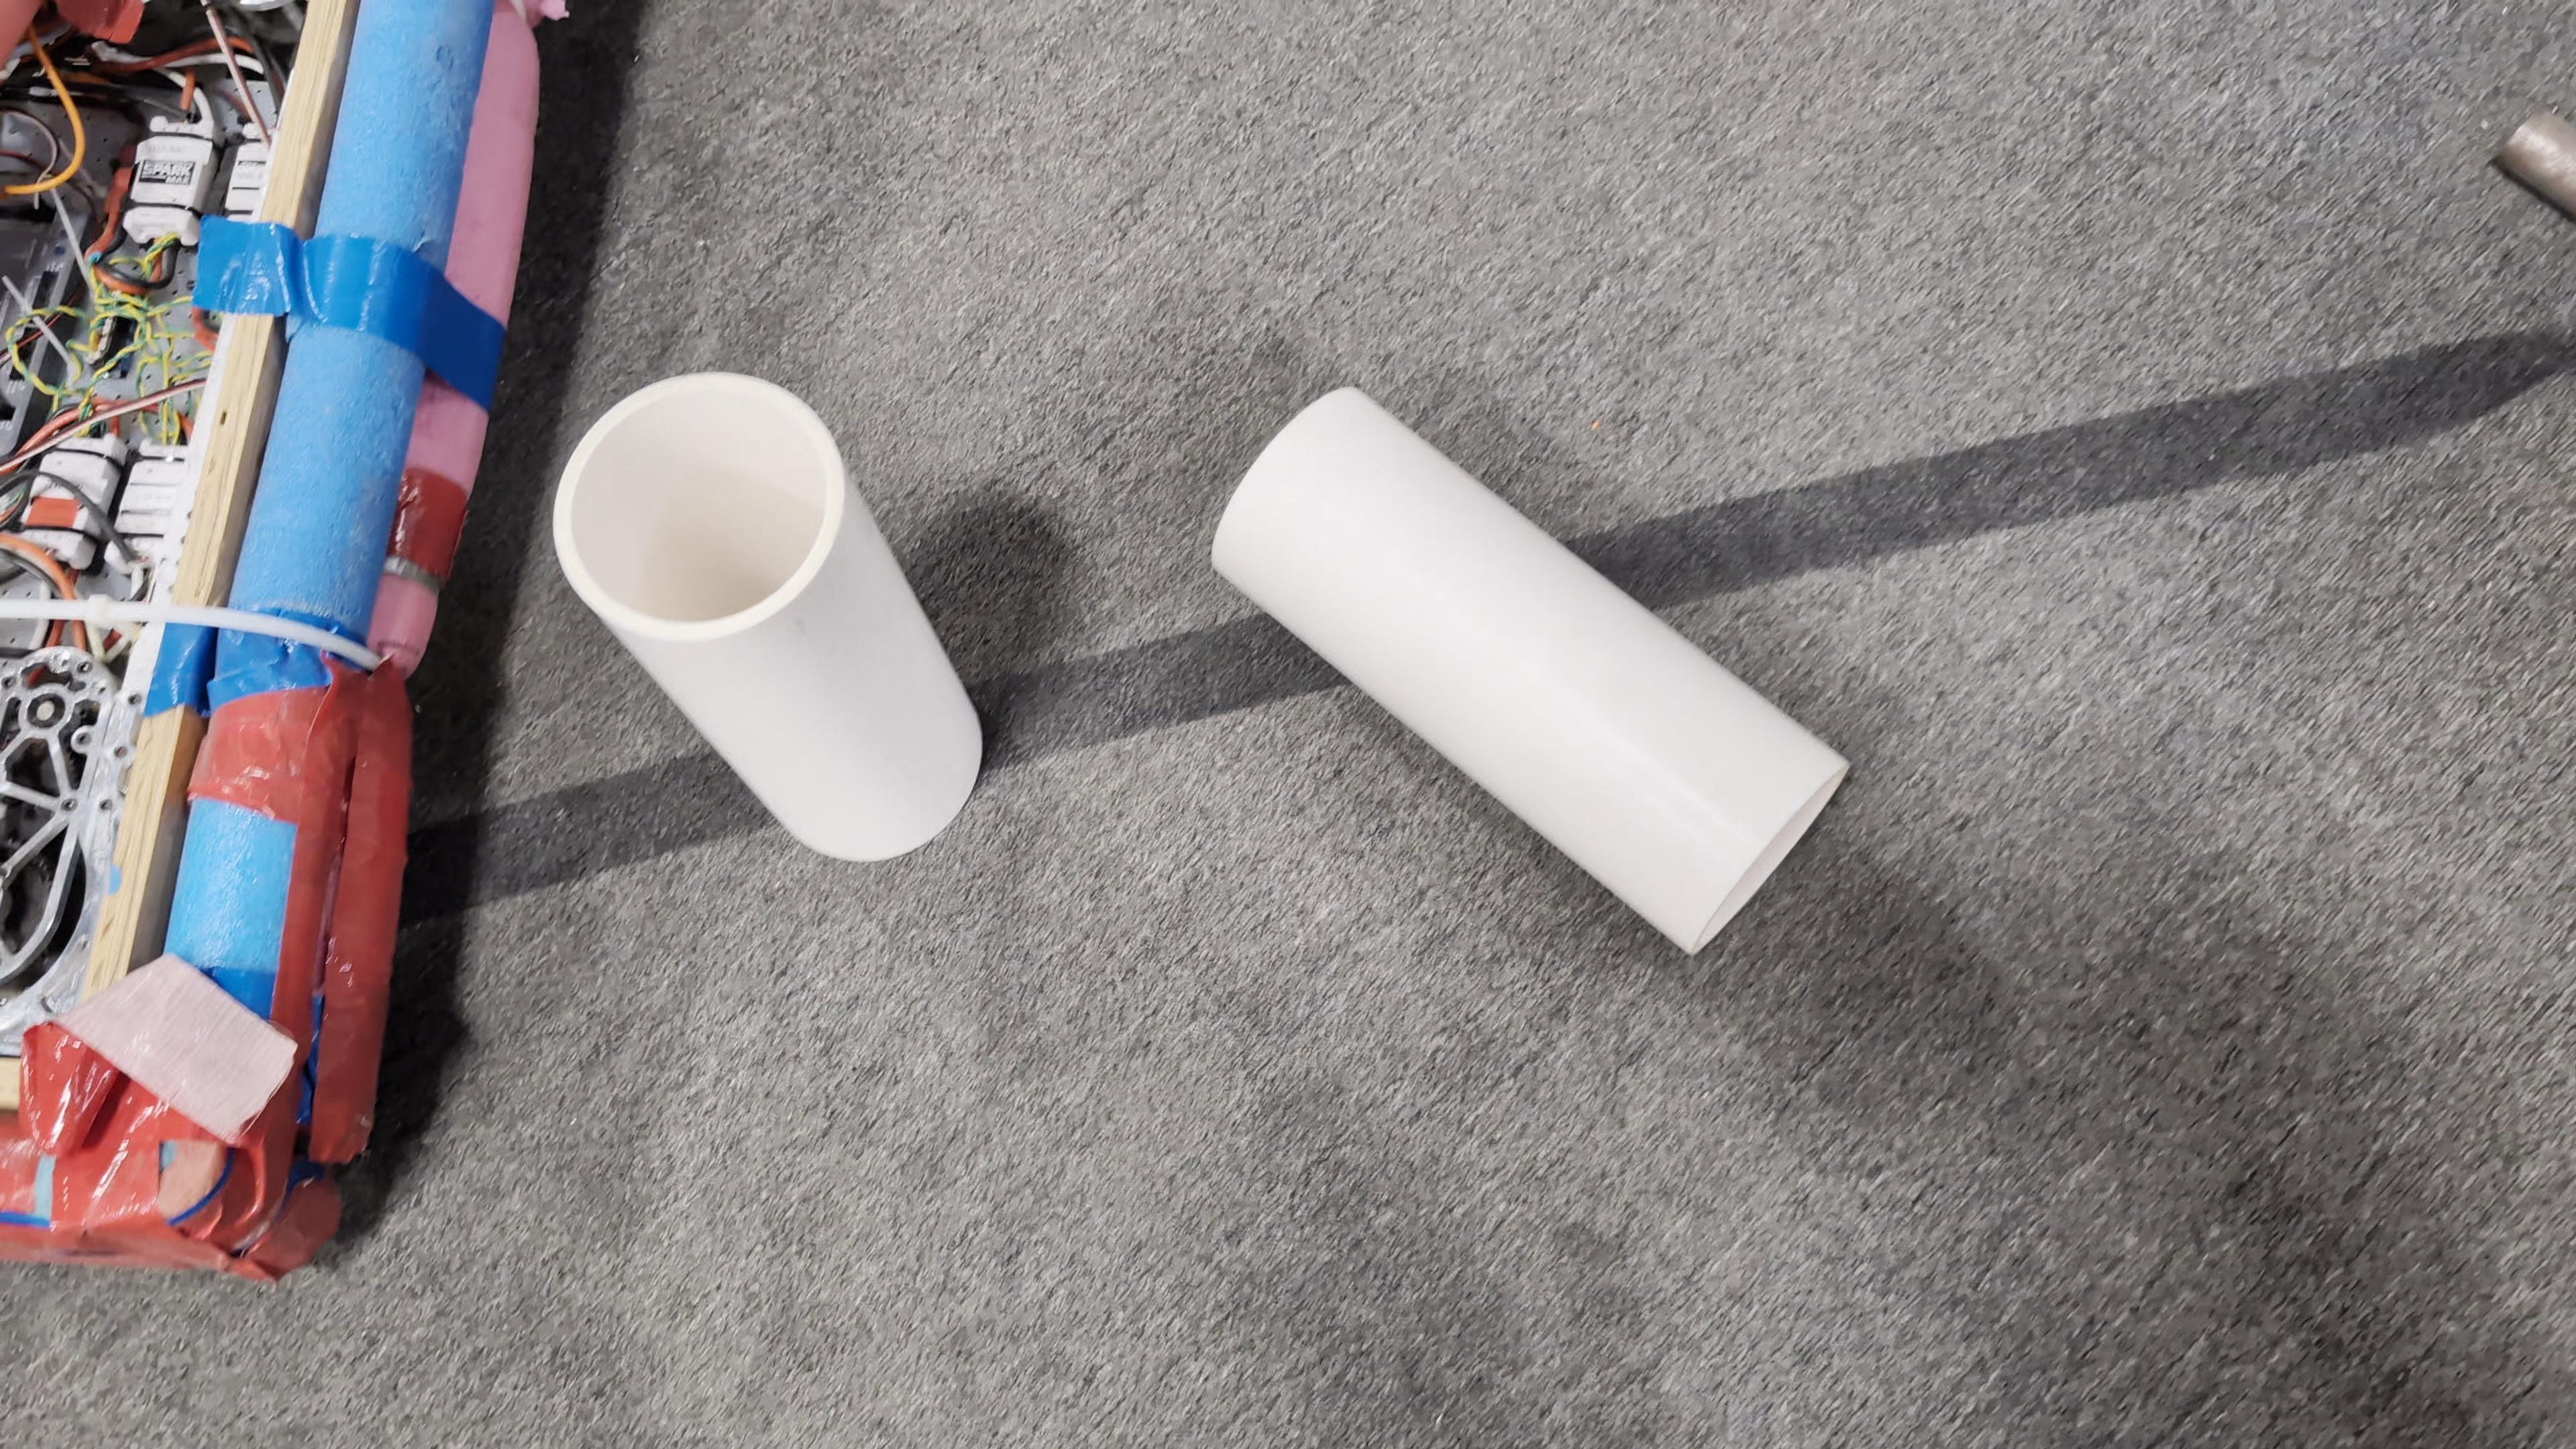coral: (1205, 379, 1852, 955), (548, 368, 987, 863)
